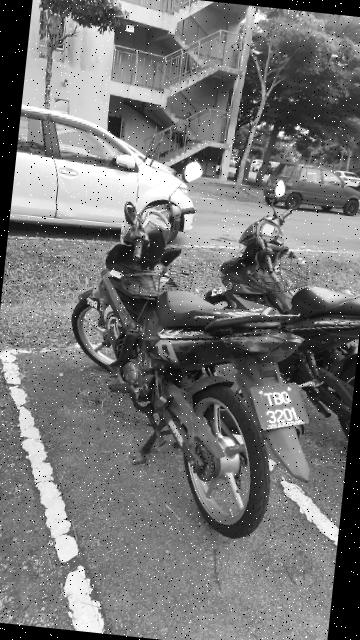License_Plate: (234, 370, 329, 447)
car: (10, 88, 208, 254), (243, 141, 360, 226)
motorcycle: (45, 130, 353, 557), (158, 163, 360, 461)
